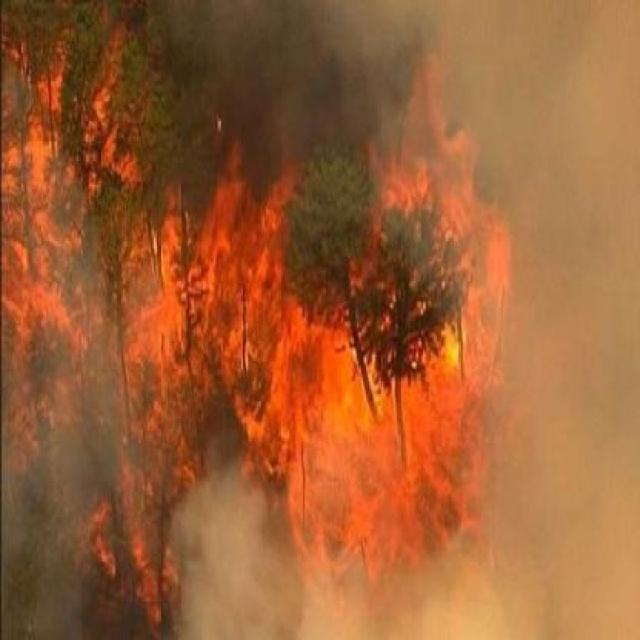Fire: (0, 9, 491, 622)
Smoke: (347, 0, 640, 477), (170, 462, 633, 640)
